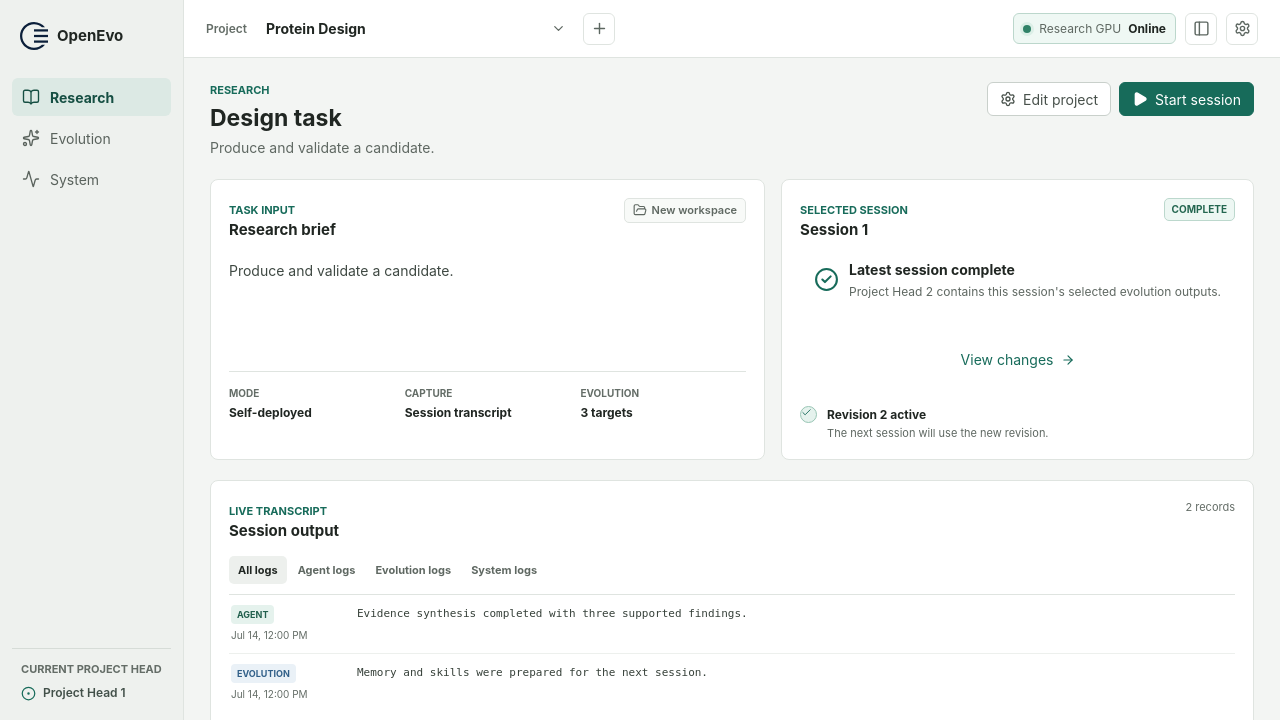
Test: DesktopProductApp › keeps the Daemon project head authoritative while the project projection refreshes
What coordinates should you click on to do the following:
click the button "Evolution"
I would click on:
 (92, 138)
Its box is x1=12 y1=119 x2=171 y2=157.
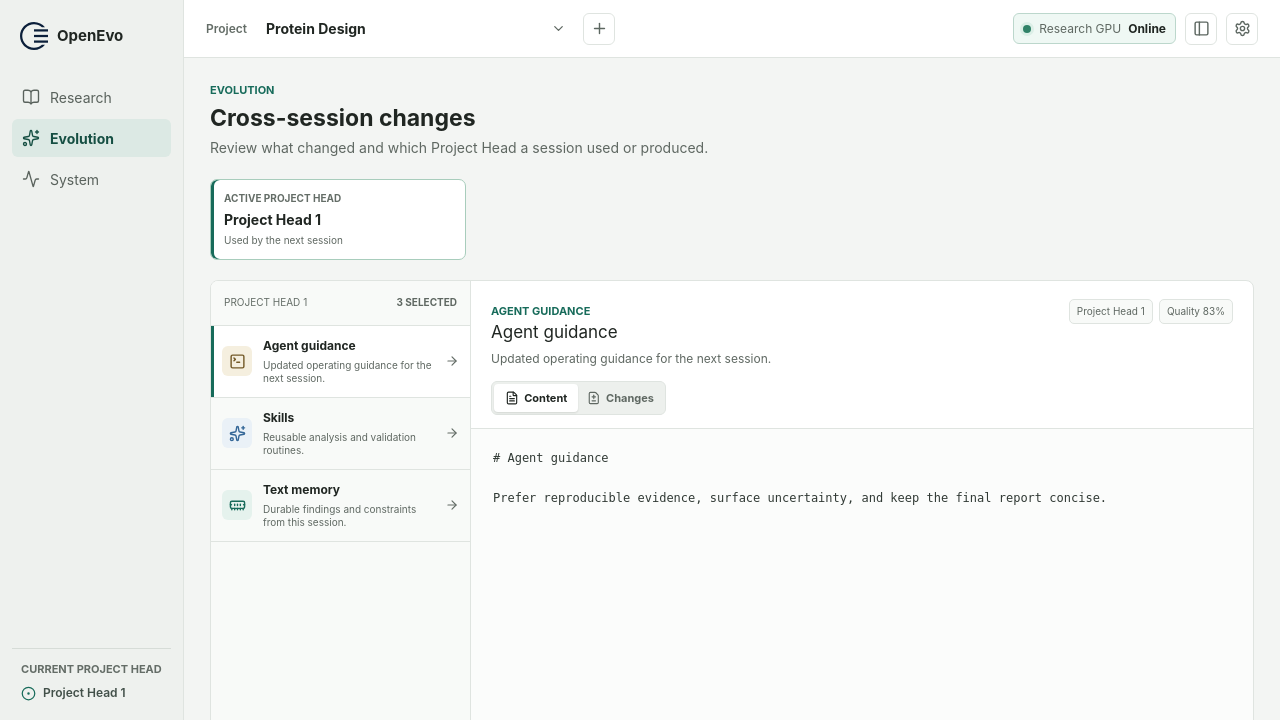
Check: the element with class "revision-node" shows "Project Head 1", box x1=210 y1=178 x2=466 y2=260
Check: the text "Project Head 2" is gone
Check: the number of elements with class "revision-node" is 1, box x1=210 y1=178 x2=466 y2=260
